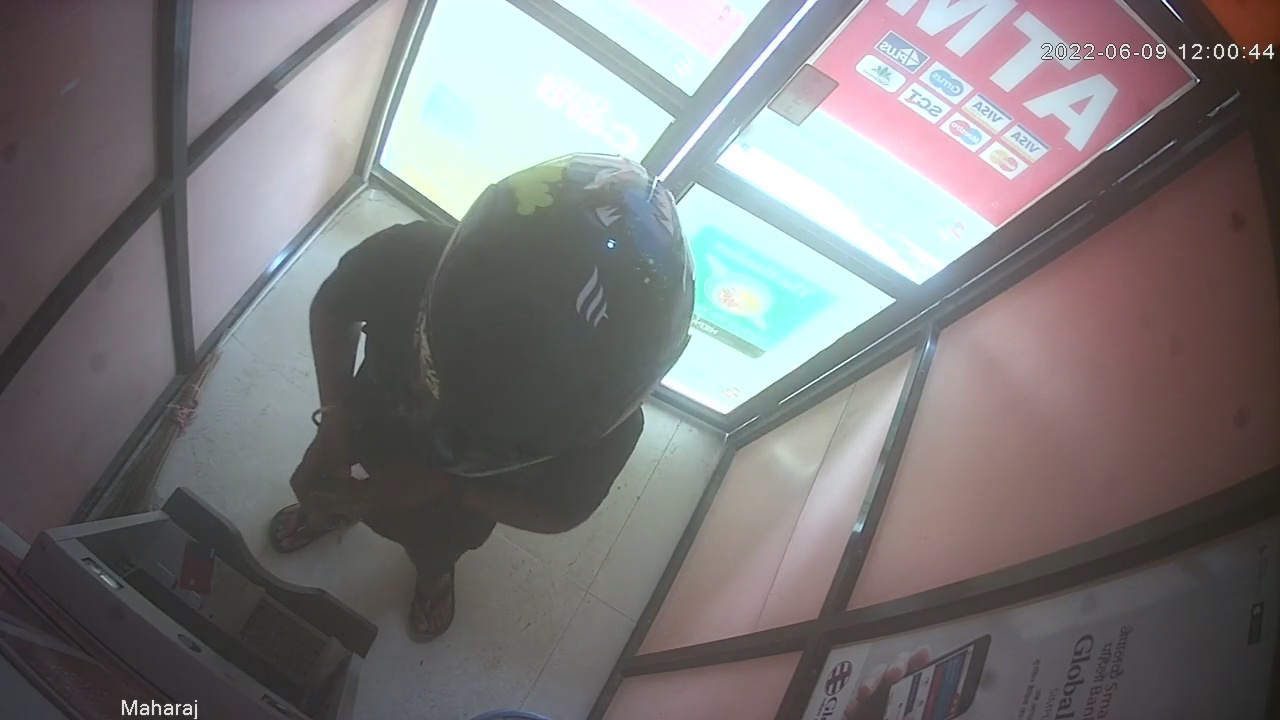helmet: (408, 147, 693, 481)
person: (266, 148, 698, 646)
